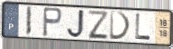D: (109, 10, 133, 41)
I: (25, 6, 33, 37)
J: (66, 9, 86, 39)
L: (135, 13, 152, 42)
P: (42, 7, 64, 39)
Z: (87, 9, 110, 40)
